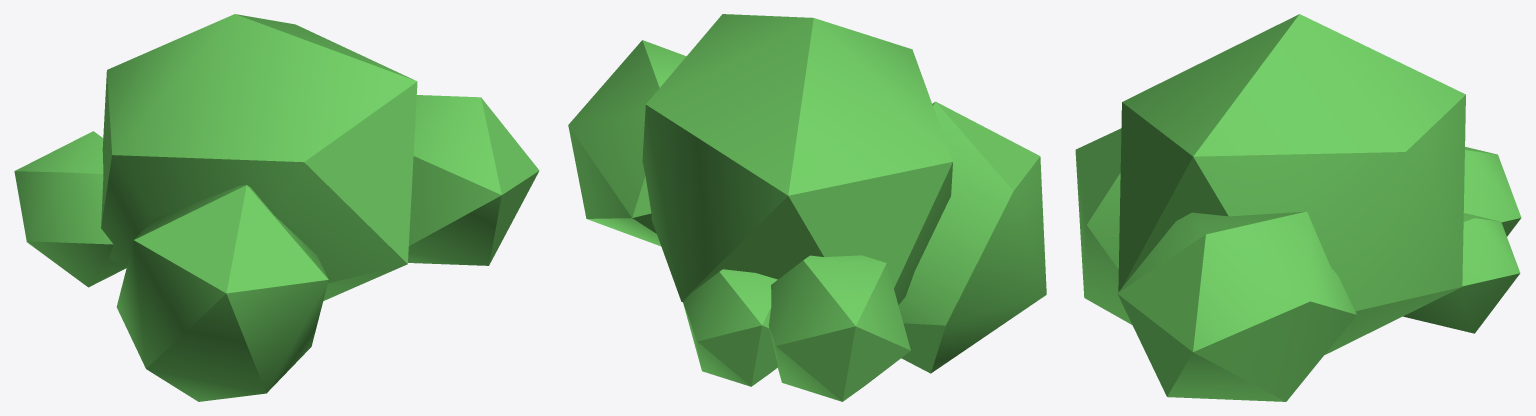
The model's file is Bush0.fbx.
3 views of the same model, side by side, from view 1: azimuth 30°, elevation 25°; view 2: azimuth 150°, elevation 25°; view 3: azimuth 270°, elevation 25° (orthographic). The views are drawn at different scales.
Parts seen in each view (by area): view 1: Bush0; view 2: Bush0; view 3: Bush0.
Boxes of the visible parts, x1,y1,x2,y2 form: Bush0: (14, 14, 539, 401); Bush0: (568, 14, 1046, 401); Bush0: (1075, 14, 1521, 401).
Bounding box in the file's own units: 191 × 153 × 164.
